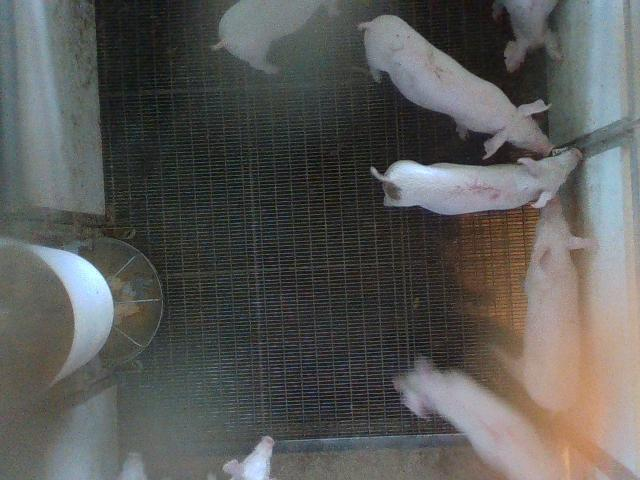pig-4: (395, 360, 560, 478)
pig-5: (370, 149, 581, 215)
